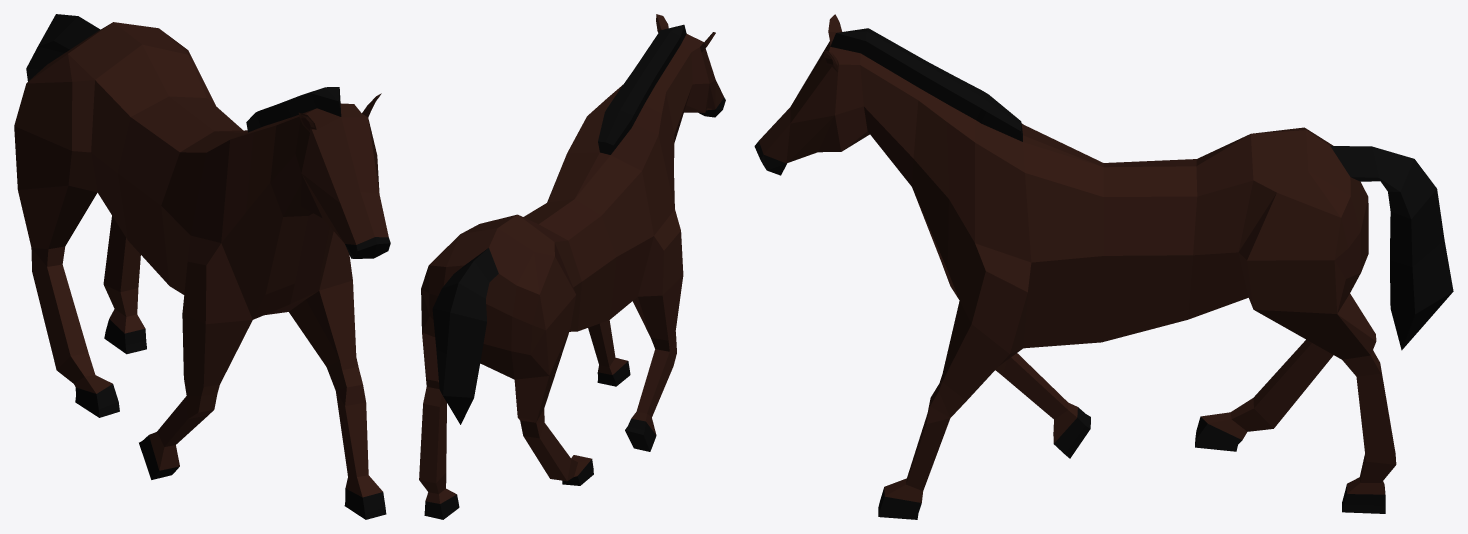
Rendered from Horse_000002.obj.
3 views of the same model, side by side, from view 1: azimuth 30°, elevation 25°; view 2: azimuth 150°, elevation 25°; view 3: azimuth 270°, elevation 25° (orthographic). The views are drawn at different scales.
Visible parts, largest first — view 1: Horse_Cylinder; view 2: Horse_Cylinder; view 3: Horse_Cylinder.
Part boxes in pixels (left/top/right/bottom): Horse_Cylinder: left=14, top=14, right=390, bottom=519; Horse_Cylinder: left=419, top=14, right=725, bottom=519; Horse_Cylinder: left=754, top=14, right=1453, bottom=519.
Bounding box in the file's own units: 2.55 × 6.65 × 9.27.
